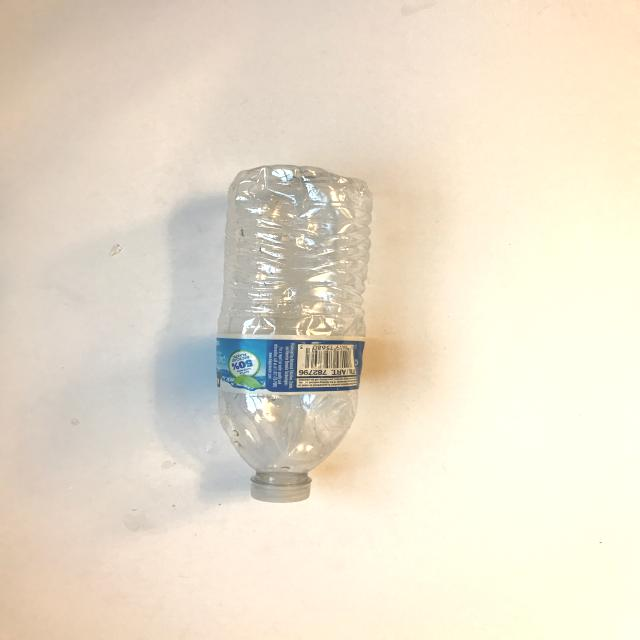Plastic: (156, 136, 420, 508)
